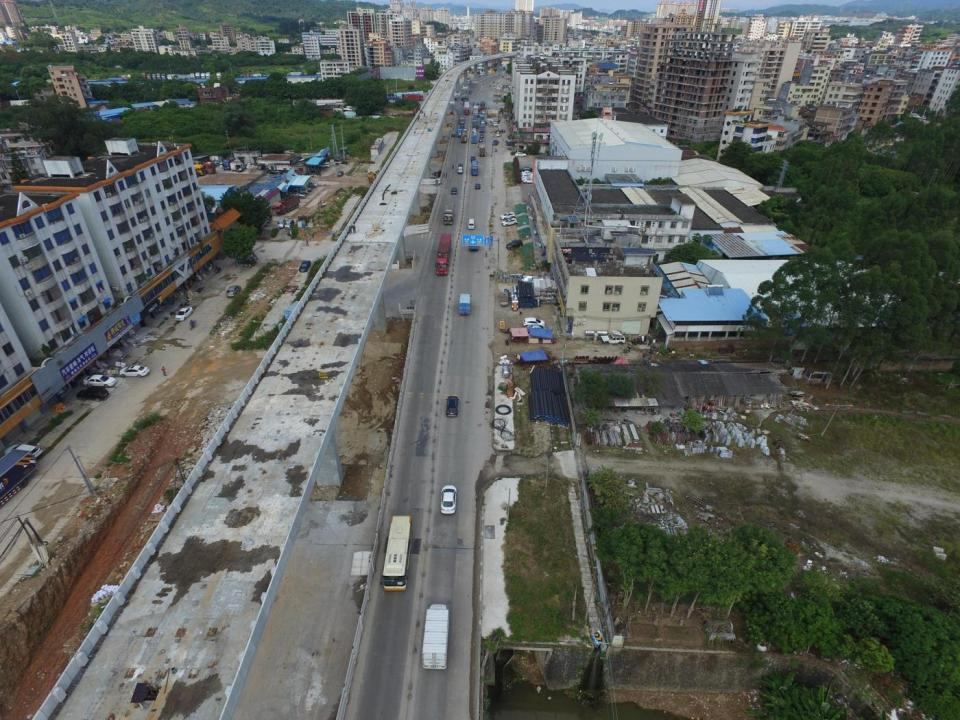bus: (380, 514, 412, 591), (444, 202, 454, 224), (472, 160, 478, 175)
car: (3, 444, 41, 459), (440, 485, 458, 514), (77, 386, 108, 401), (119, 365, 150, 378), (84, 375, 116, 387), (176, 306, 194, 321), (602, 334, 625, 345), (446, 396, 458, 416), (226, 286, 242, 299), (523, 318, 545, 326), (506, 239, 523, 249), (527, 324, 548, 332), (298, 259, 310, 272), (500, 212, 516, 219), (502, 219, 517, 226), (293, 192, 306, 199), (522, 172, 534, 178), (522, 176, 533, 182), (520, 167, 532, 172), (523, 179, 535, 184), (522, 170, 533, 175), (302, 186, 311, 192), (515, 152, 525, 157), (336, 170, 344, 176), (306, 182, 318, 186), (451, 187, 457, 194), (470, 156, 476, 161), (475, 183, 480, 189), (503, 114, 507, 118), (480, 110, 484, 114), (480, 133, 483, 138), (479, 137, 482, 142), (464, 127, 467, 131), (469, 91, 472, 94)
truck: (0, 450, 40, 545), (422, 600, 451, 669), (436, 233, 452, 275), (274, 195, 301, 216), (284, 298, 308, 321), (191, 160, 215, 173), (182, 162, 204, 176), (458, 293, 471, 315), (402, 93, 424, 102), (499, 290, 508, 307), (224, 157, 235, 169), (231, 160, 240, 170), (237, 162, 246, 171), (464, 102, 470, 115), (480, 143, 486, 156), (457, 164, 463, 174), (473, 105, 479, 114), (457, 128, 462, 138), (480, 102, 485, 110), (460, 116, 464, 125), (463, 96, 468, 103)
van: (469, 238, 478, 251), (277, 218, 286, 228), (467, 218, 474, 230), (285, 219, 293, 229), (297, 187, 306, 194), (319, 163, 328, 168)
